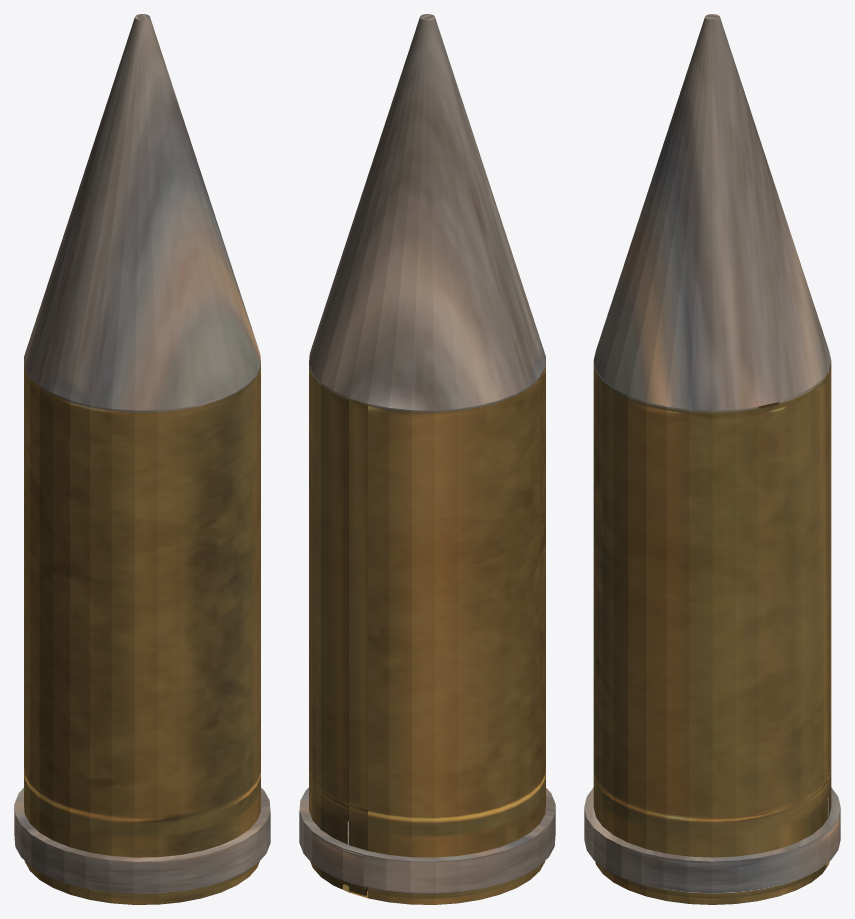
File: Bullet1.fbx
3 renders of one model, left to right at view 1: azimuth 30°, elevation 25°; view 2: azimuth 150°, elevation 25°; view 3: azimuth 270°, elevation 25°, orthographic.
Visible parts, largest first — view 1: Cylinder, Cylinder.001; view 2: Cylinder, Cylinder.001; view 3: Cylinder, Cylinder.001.
Part boxes in pixels (bbox=[...]): Cylinder: bbox=[24, 14, 260, 904]; Cylinder.001: bbox=[14, 787, 270, 893]; Cylinder: bbox=[309, 14, 545, 904]; Cylinder.001: bbox=[299, 787, 555, 893]; Cylinder: bbox=[593, 14, 831, 904]; Cylinder.001: bbox=[584, 787, 840, 893].
Size of the model in its own units: 216 by 778 by 216.
